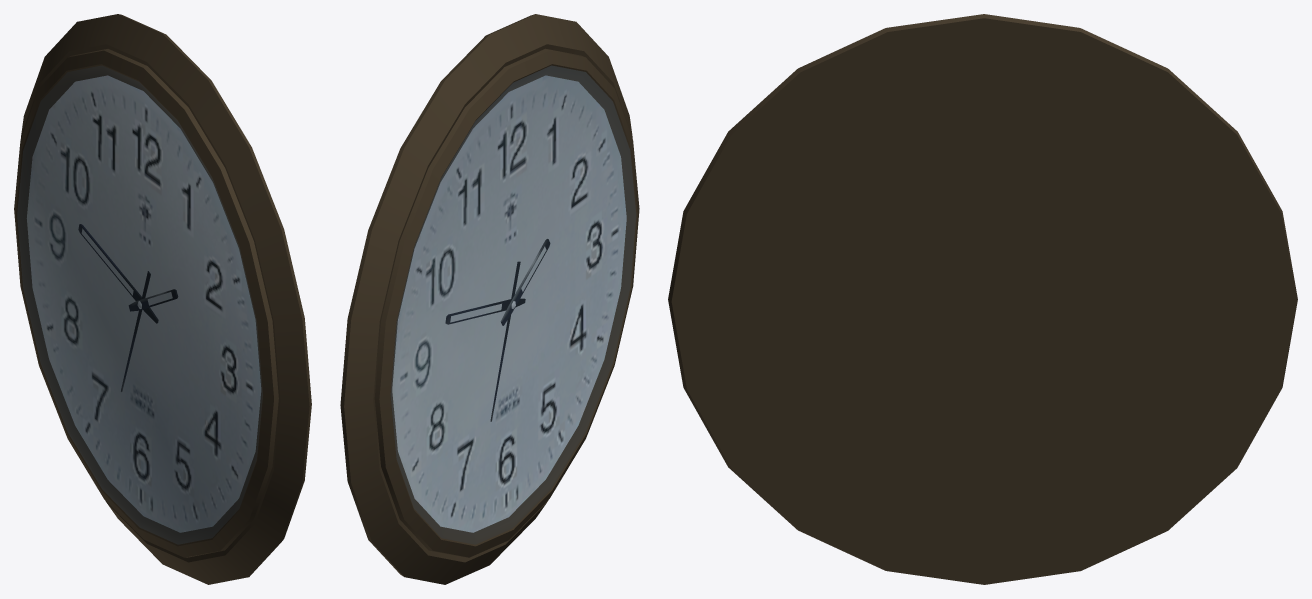
File: SZClock.FBX
The picture shows the model from 3 angles, left to right: view 1: azimuth 30°, elevation 25°; view 2: azimuth 150°, elevation 25°; view 3: azimuth 270°, elevation 25°; orthographic projection. The views are drawn at different scales.
Visible parts, largest first — view 1: SZClock; view 2: SZClock; view 3: SZClock.
Boxes of the visible parts, x1,y1,x2,y2 form: SZClock: (14, 14, 311, 584); SZClock: (340, 14, 639, 584); SZClock: (668, 14, 1297, 584).
Size of the model in its own units: 3.08 by 50 by 50.
